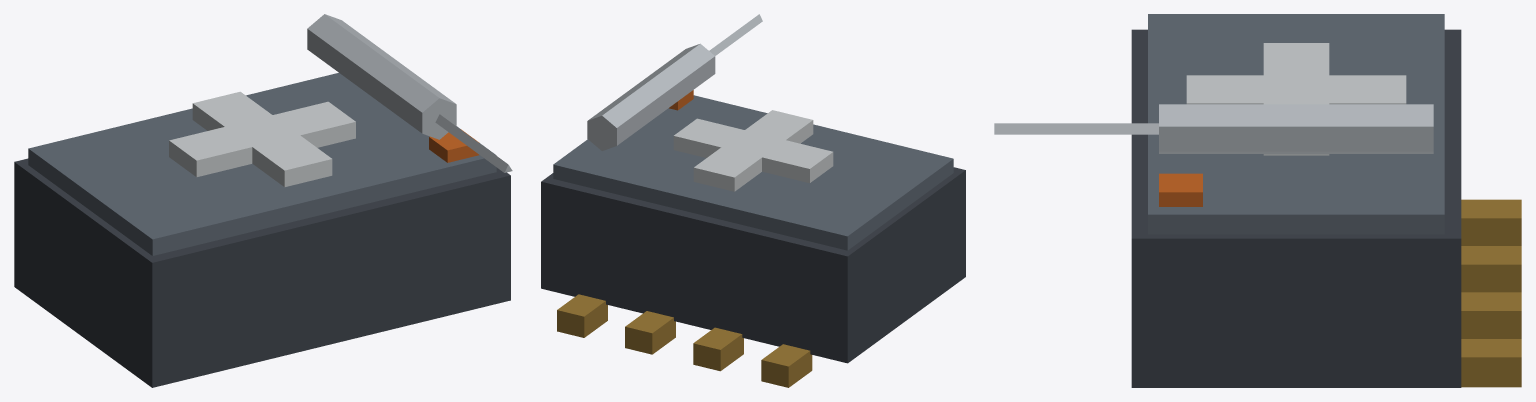
Rendered from droid-medic.glb.
The picture shows the model from 3 angles, left to right: view 1: azimuth 30°, elevation 25°; view 2: azimuth 150°, elevation 25°; view 3: azimuth 270°, elevation 25°; orthographic projection. The views are drawn at different scales.
Visible parts, largest first — view 1: m; view 2: m; view 3: m.
Part boxes in pixels (x1,y1,x2,y2): m: (14,14,512,387); m: (541,14,965,387); m: (994,14,1521,387).
Size of the model in its own units: 0.1 by 0.0611 by 0.1067.
